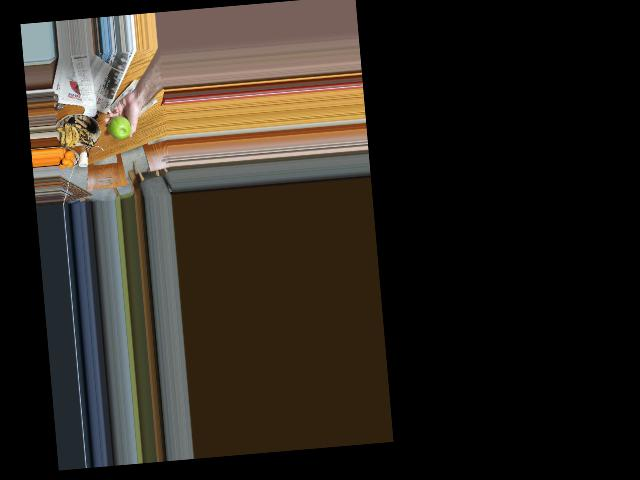apple: (107, 114, 132, 140)
